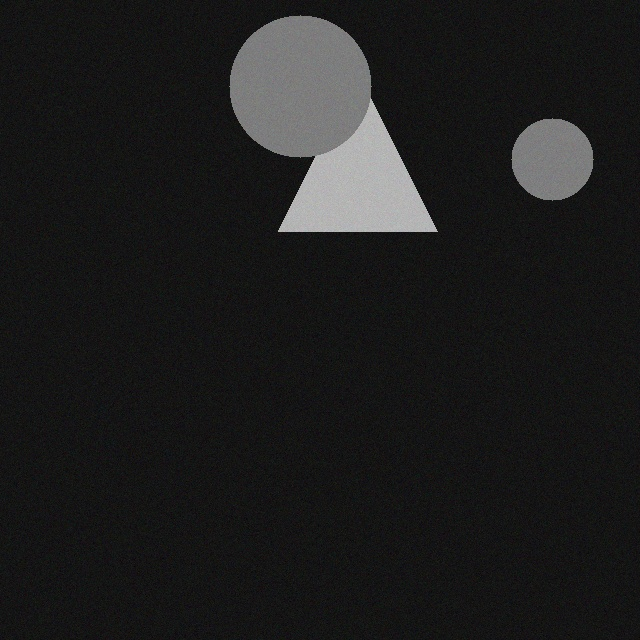circle: (230, 12, 372, 154), (512, 115, 594, 197)
triangle: (279, 69, 438, 228)
